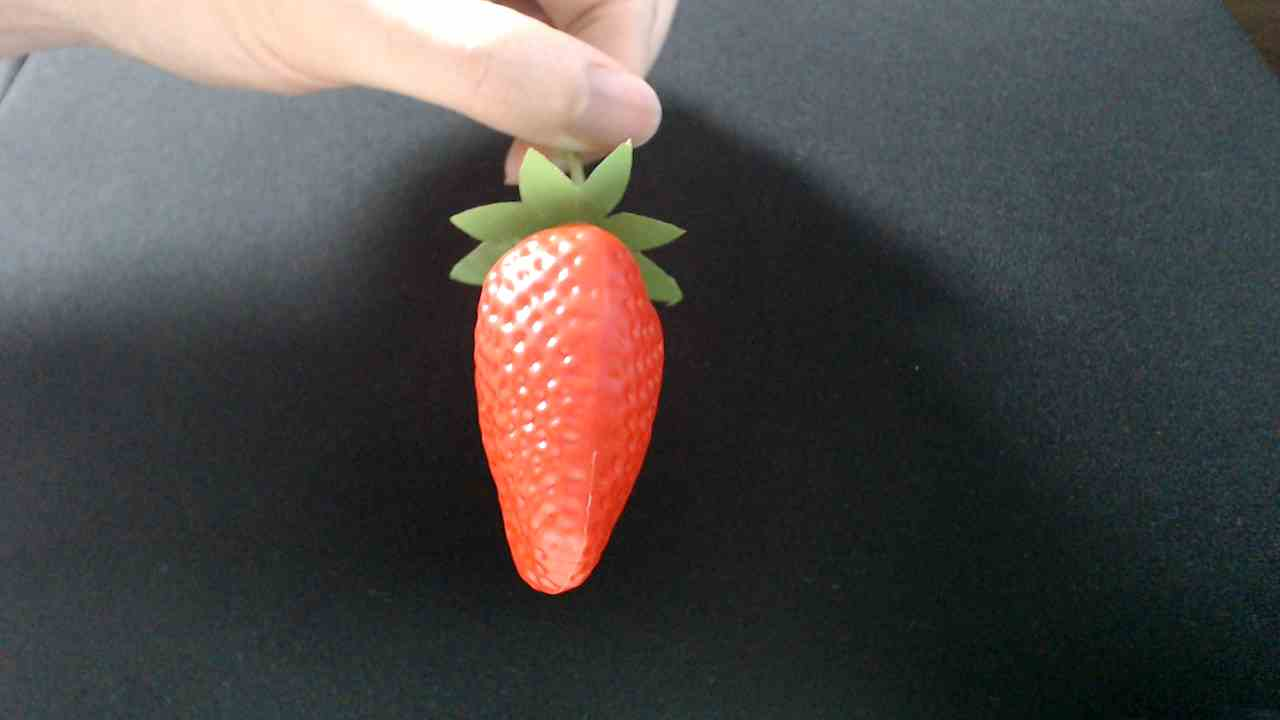strawberry: (453, 194, 694, 598)
